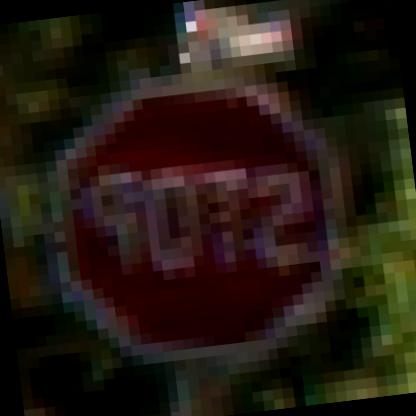stop: (7, 56, 386, 392)
